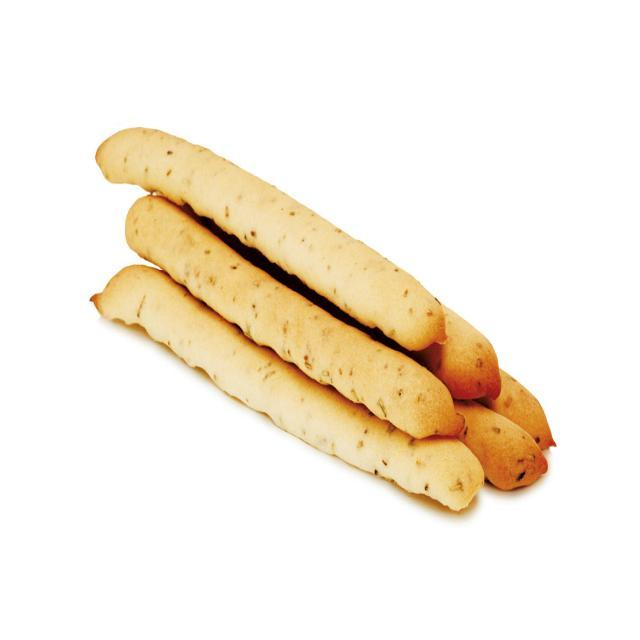Grissini: (89, 127, 559, 513)
